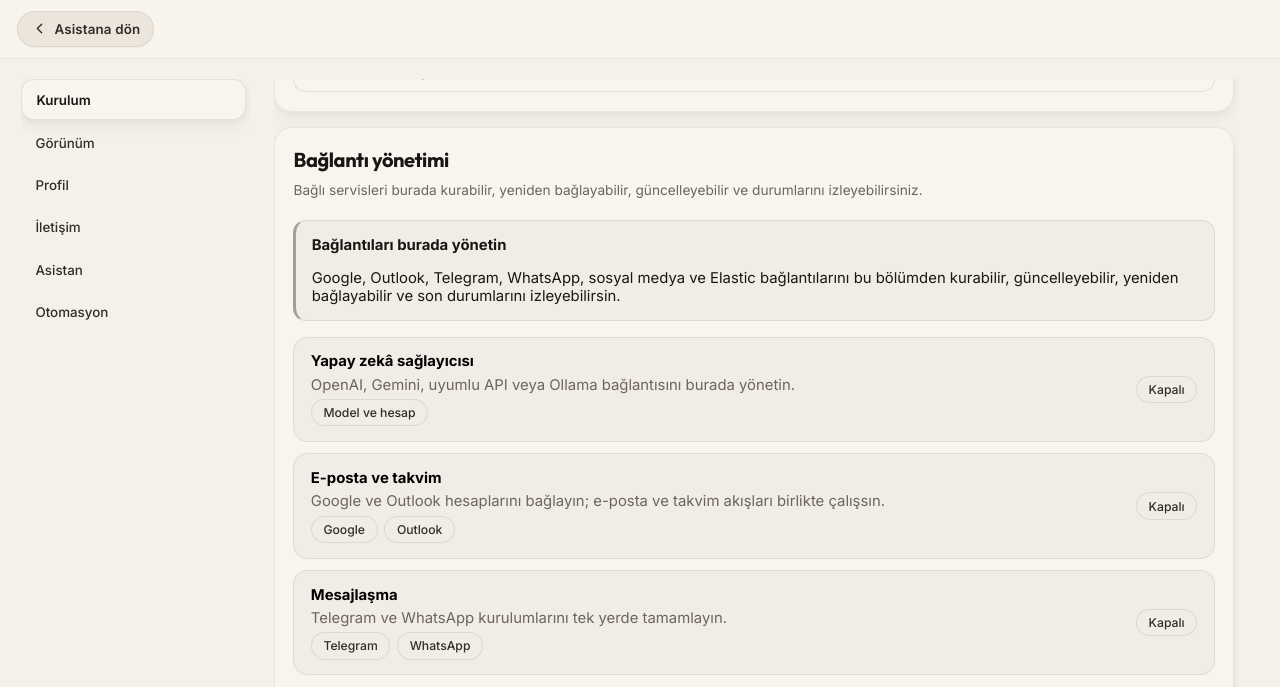
it: SettingsPage › allows removing a configured AI provider connection
(page scrolled)
Expected: the heading "Bağlantı yönetimi" is shown, [294,147,449,172]
Step 1. Click the button "Yapay zekâ sağlayıcısı" → coordinates (754, 389), box [294,338,1214,441]
(page scrolled)
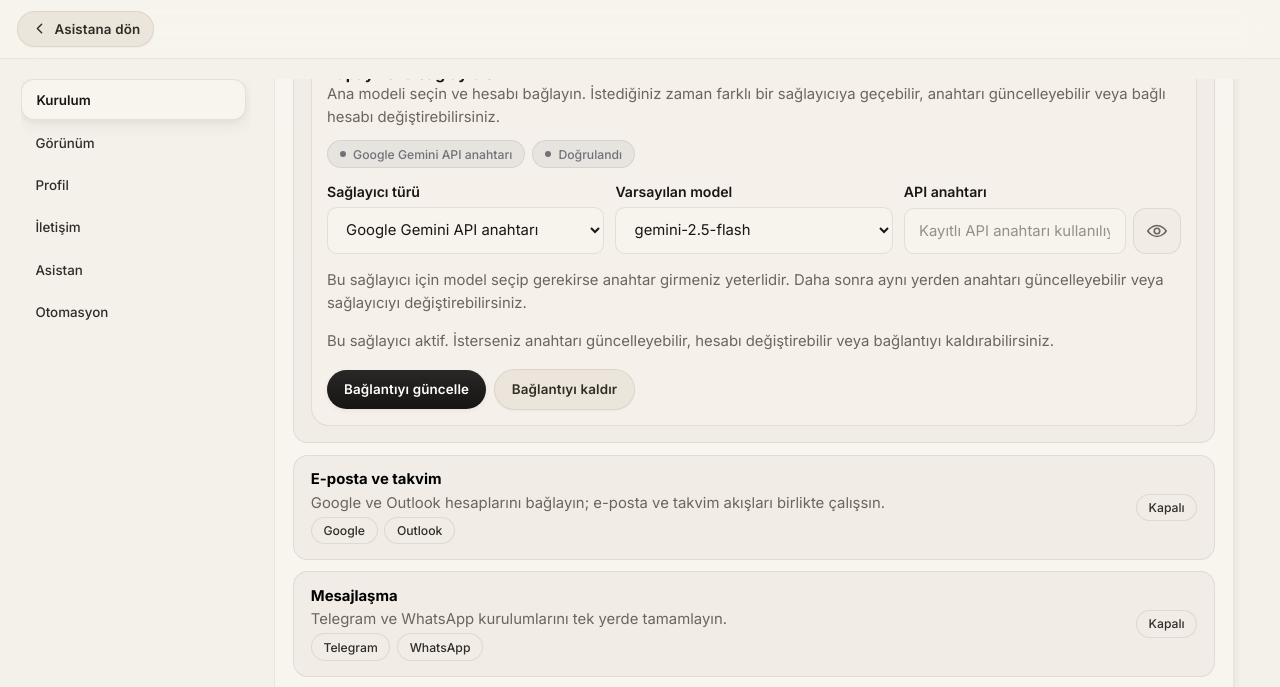
Expected: the button "Bağlantıyı kaldır" is shown
Step 2. Click the button "Bağlantıyı kaldır" → coordinates (564, 389), box [494,369,635,410]
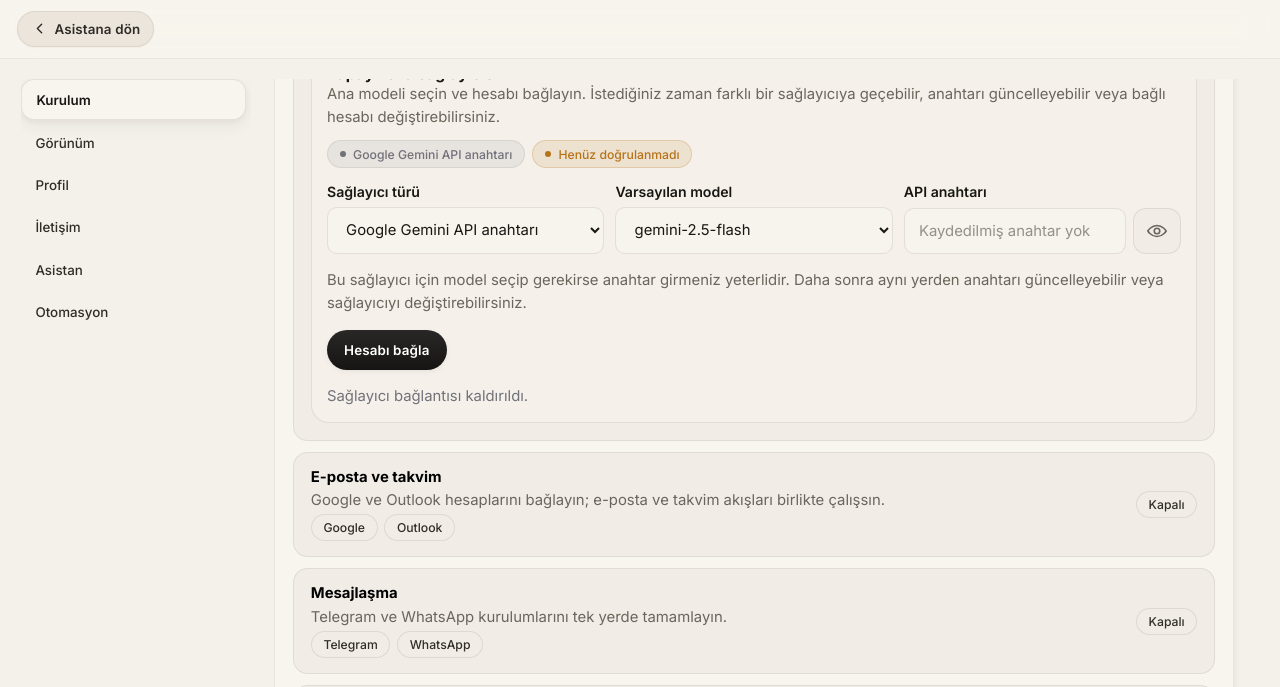
Expected: the text "Sağlayıcı bağlantısı kaldırıldı." is shown, [327,387,528,405]
